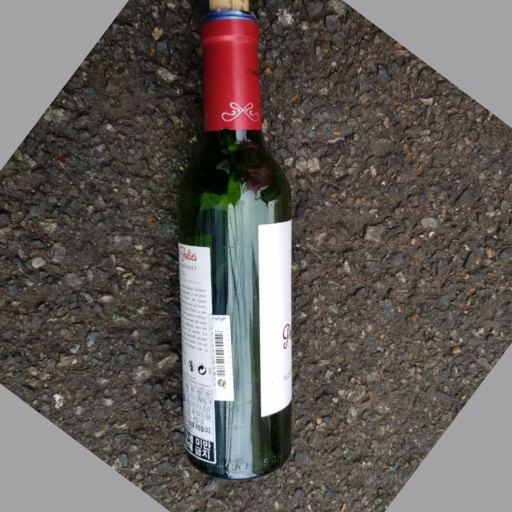Glass_2: (169, 1, 299, 480)
